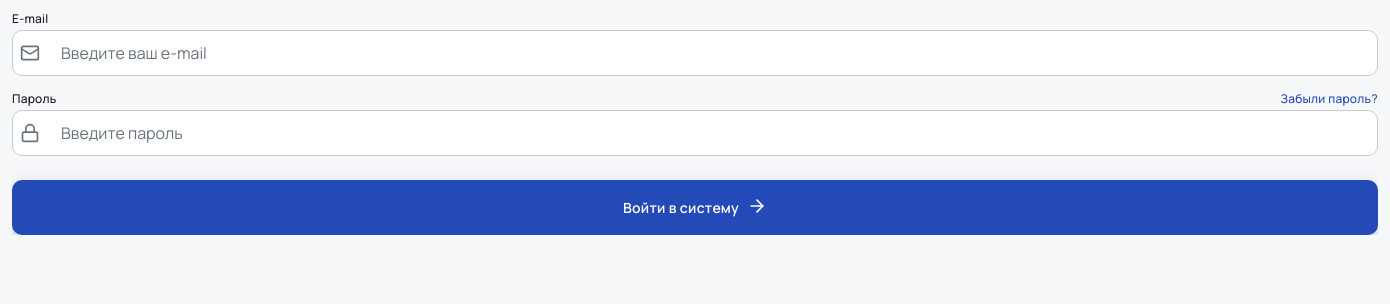
it: LoginForm › shows an accessible error alert after failed sign-in
Type "test@test.com" into the field labelled "E-mail". click: (695, 53)
box: top-left (12, 30), bottom-right (1378, 76)
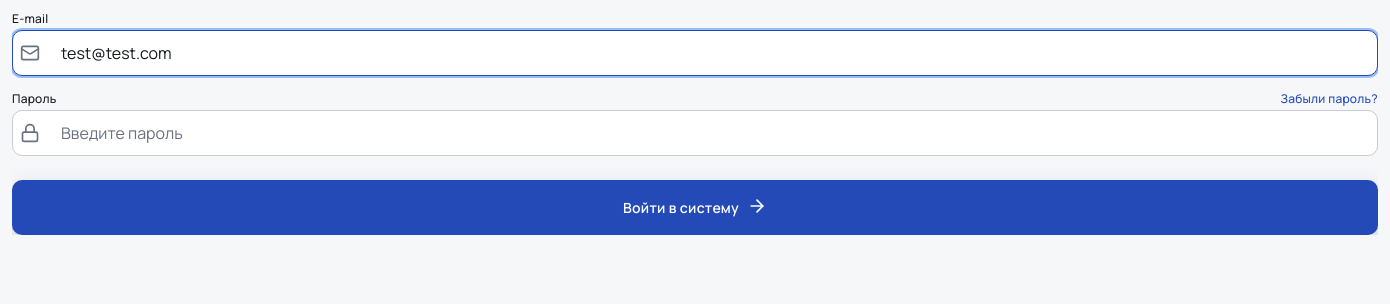
Type "wrong" into the password field labelled "Пароль". click: (695, 133)
box: top-left (12, 110), bottom-right (1378, 156)
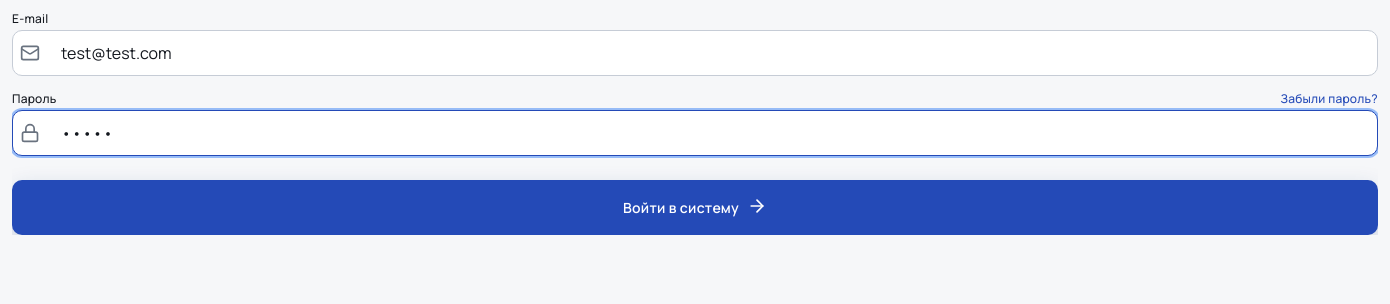
Click the button "Войти в систему". click: (695, 208)
box: top-left (12, 180), bottom-right (1378, 235)
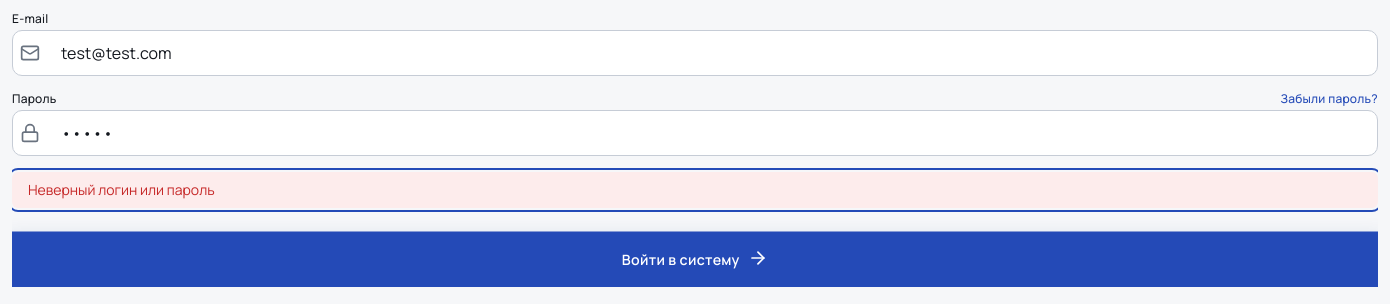
Now the message reads "Неверный логин или пароль", box top-left (28, 180), bottom-right (215, 199)
